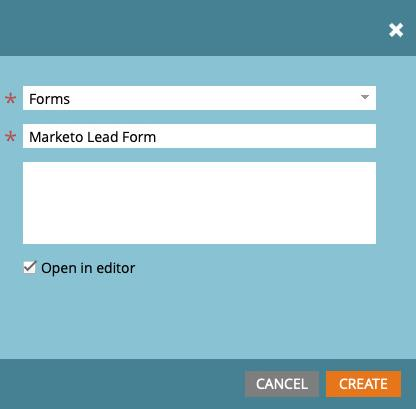button: (324, 369, 402, 399), (244, 369, 321, 399)
checkbox: (22, 258, 37, 275)
checkbox_with_label: (19, 256, 136, 275)
field: (21, 159, 377, 245), (20, 84, 378, 112), (21, 123, 378, 150)
